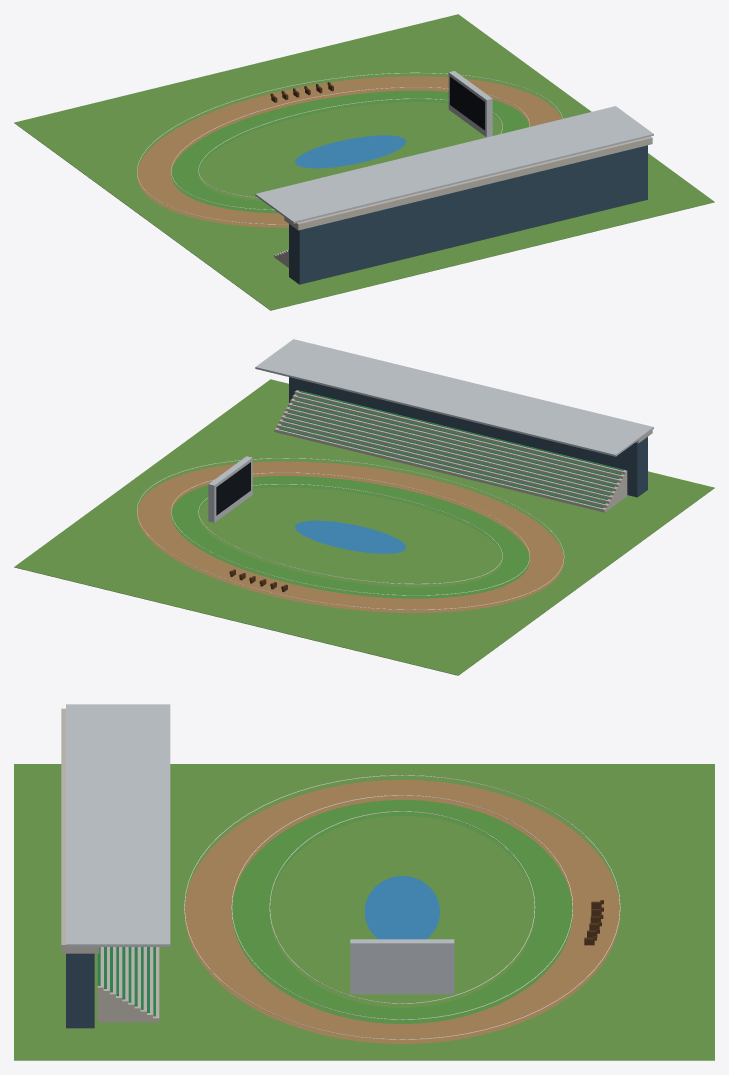
Rendered from racecourse.glb.
3 views of the same model, one above another, from view 1: azimuth 30°, elevation 25°; view 2: azimuth 150°, elevation 25°; view 3: azimuth 270°, elevation 25° (orthographic). The views are drawn at different scales.
Parts seen in each view (by area): view 1: Racecourse_static; view 2: Racecourse_static; view 3: Racecourse_static.
Part boxes in pixels (left/top/right/bottom): Racecourse_static: left=14, top=14, right=714, bottom=310; Racecourse_static: left=14, top=339, right=714, bottom=675; Racecourse_static: left=14, top=704, right=714, bottom=1060.
Size of the model in its own units: 148 by 20.6 by 148.
